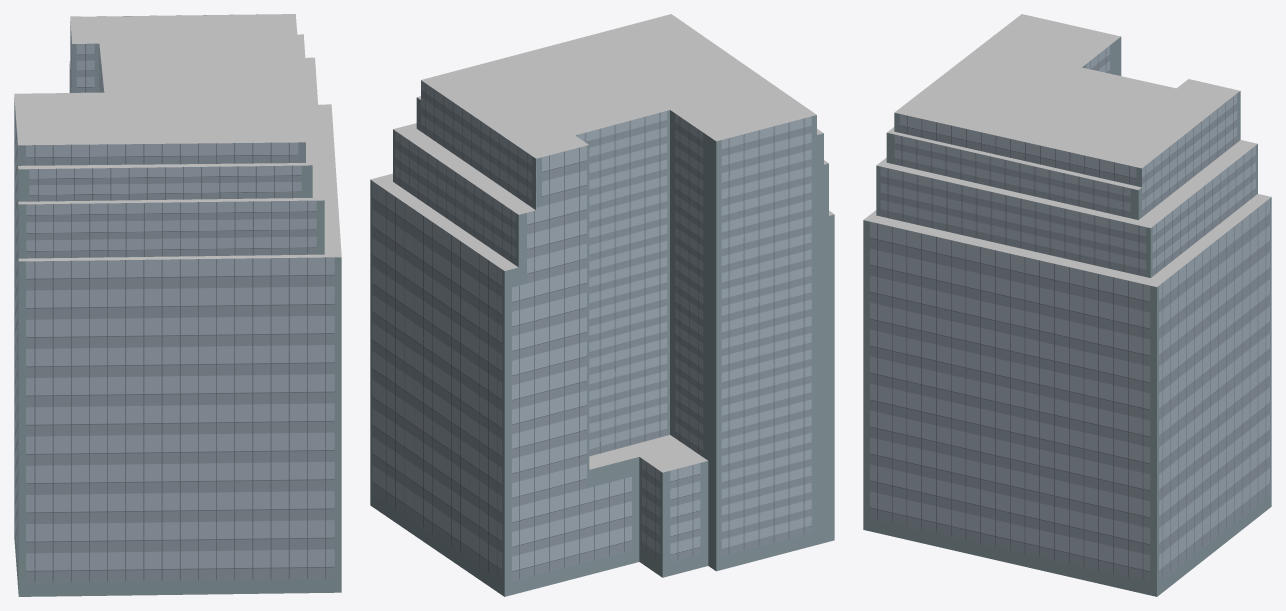
The model's file is building-0-0-581.dae.
3 renders of one model, left to right at view 1: azimuth 30°, elevation 25°; view 2: azimuth 150°, elevation 25°; view 3: azimuth 270°, elevation 25°, orthographic. The views are drawn at different scales.
Parts seen in each view (by area): view 1: geopipeinoden2iE1iKJ (×3); view 2: geopipeinoden2iE1iKJ (×3); view 3: geopipeinoden2iE1iKJ (×3).
Boxes of the visible parts, x1,y1,x2,y2 form: geopipeinoden2iE1iKJ (×3): [14, 14, 341, 596]; geopipeinoden2iE1iKJ (×3): [370, 14, 834, 596]; geopipeinoden2iE1iKJ (×3): [863, 14, 1271, 596].
Size of the model in its own units: 76.51 by 74.08 by 81.8.
